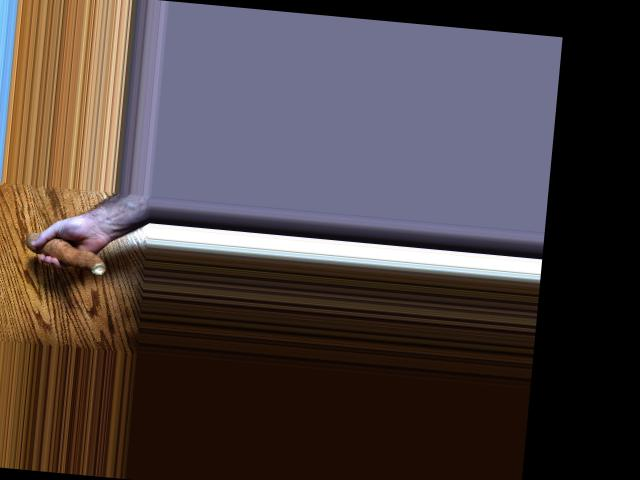sweet_potato: (19, 233, 113, 275)
